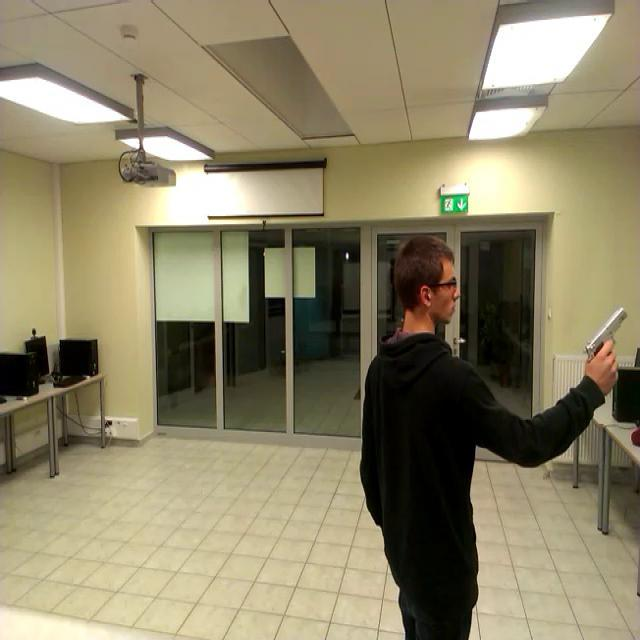Gun: (583, 306, 627, 374)
